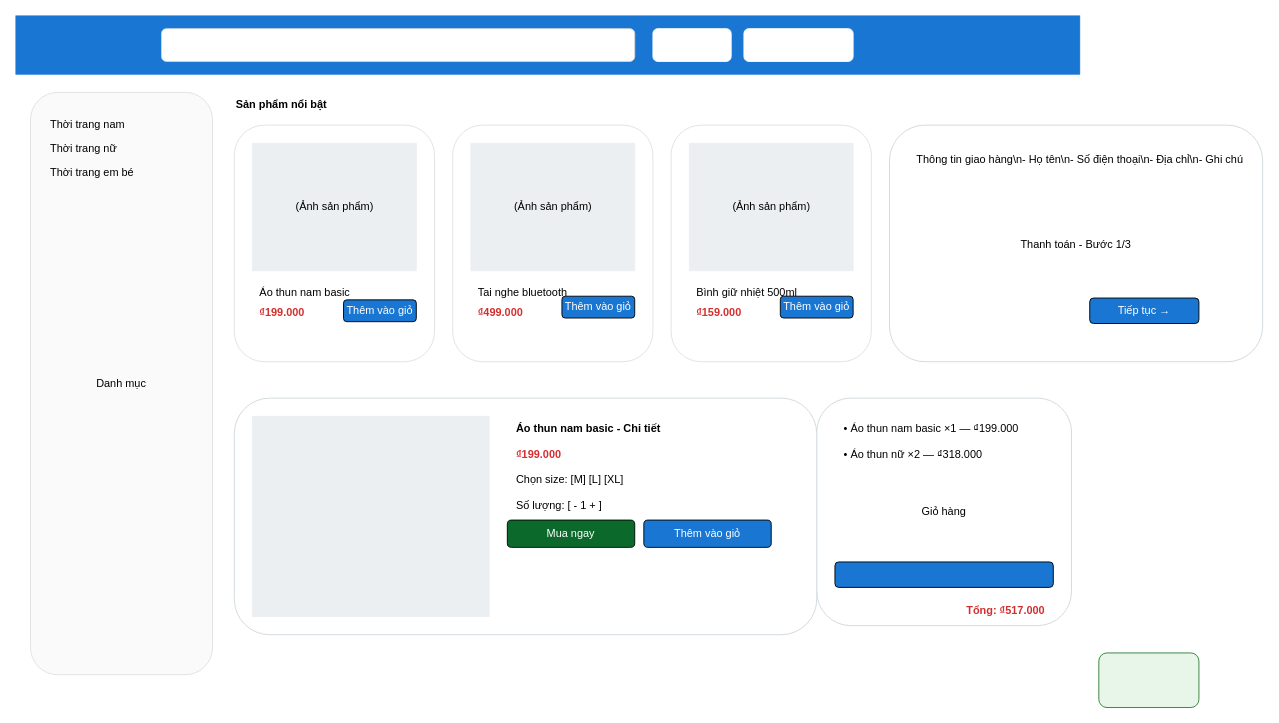
The diagram is 1279 pixels wide and 723 high, and some of its shapes have lost their labels. Each missing label, with the centre of its shape:
(Ảnh lớn): point 370,516
Tiến hành thanh toán: point 943,574
Đăng nhập: point 691,44
💬 Chat hỗ trợ: point 1148,680
🔍 Tìm kiếm sản phẩm...: point 398,44
🛒 Giỏ hàng (2): point 798,44
